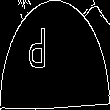P_S: (45, 29, 65, 81)
